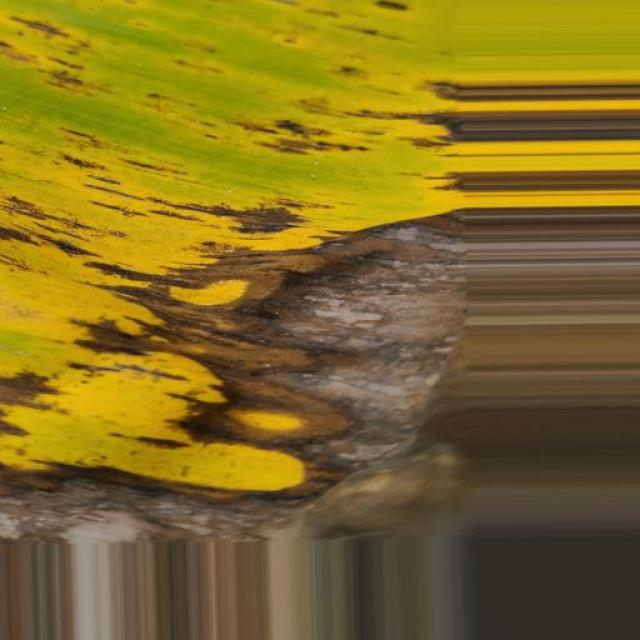Early_rust: (0, 0, 511, 583)
